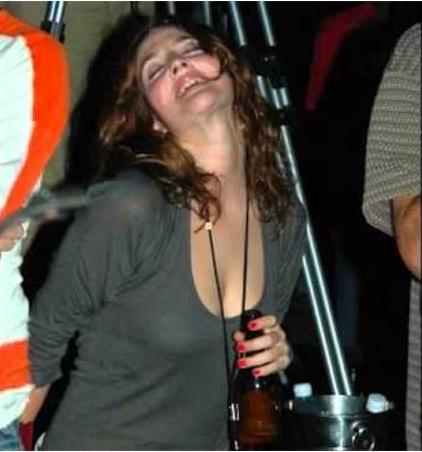Drunk: (139, 31, 229, 113)
